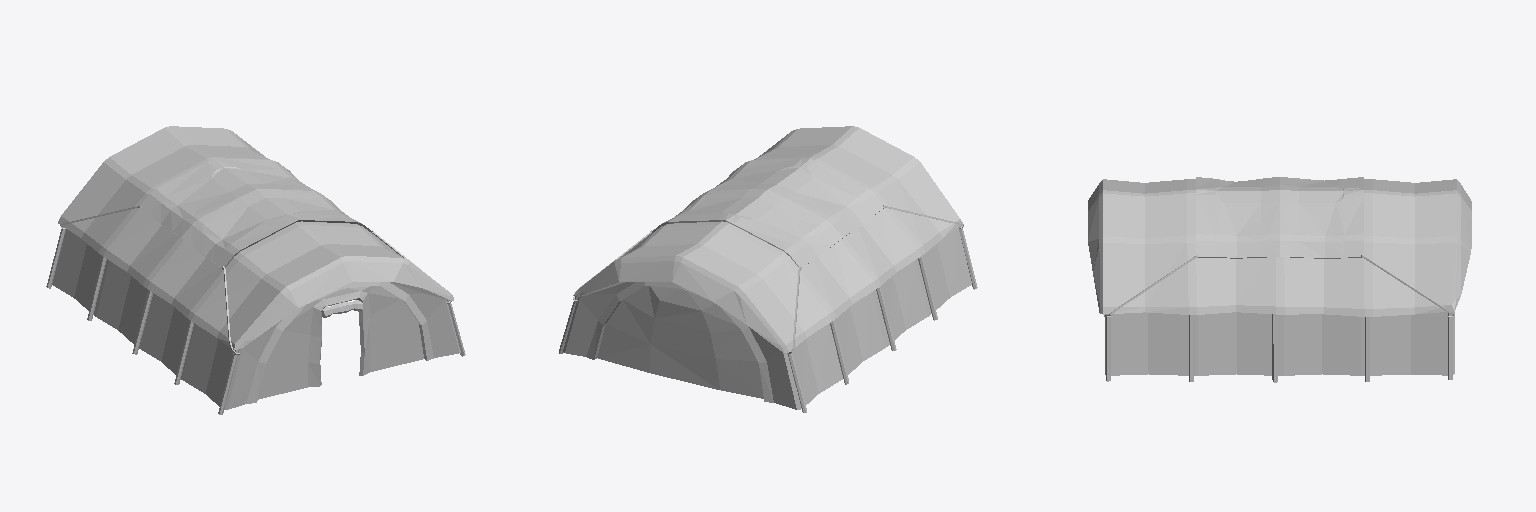
Rendered from tent_001.obj.
3 views of the same model, side by side, from view 1: azimuth 30°, elevation 25°; view 2: azimuth 150°, elevation 25°; view 3: azimuth 270°, elevation 25° (orthographic).
Visible parts, largest first — view 1: tent_001; view 2: tent_001; view 3: tent_001.
Part boxes in pixels (x1,y1,x2,y2): tent_001: (46,126,465,414); tent_001: (559,126,977,412); tent_001: (1088,177,1471,382).
Size of the model in its own units: 6.98 by 3.54 by 9.25.